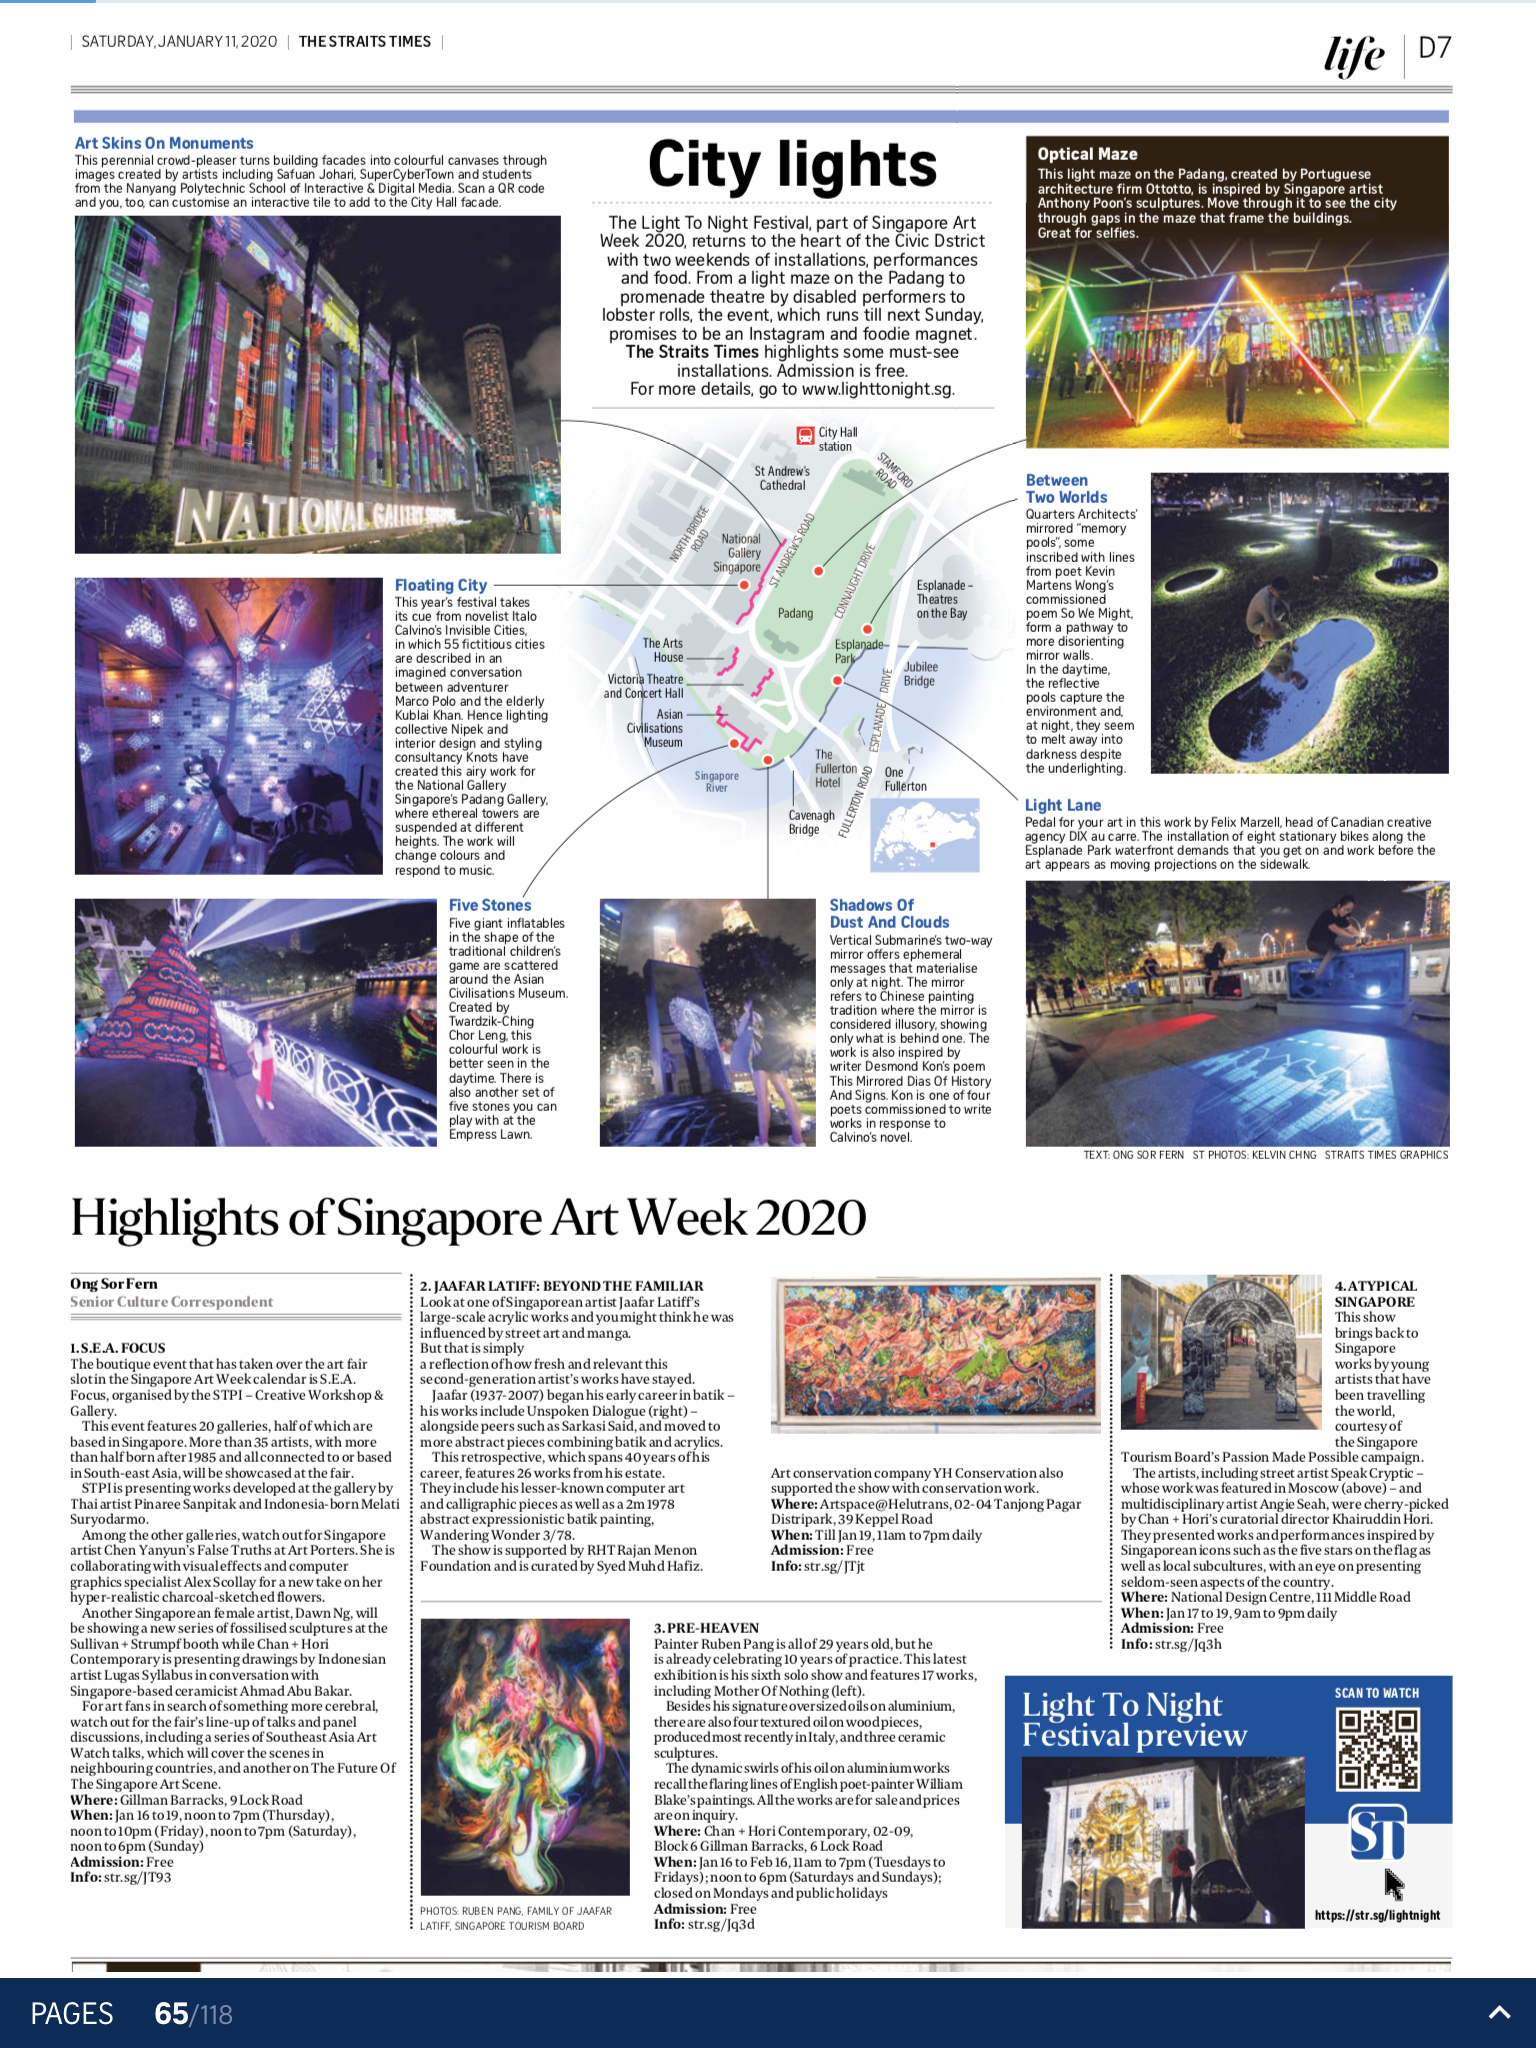Byline: (69, 1276, 276, 1309)
Headline: (71, 1197, 868, 1248), (650, 139, 937, 200)
Illustration: (419, 1906, 611, 1932), (1084, 1150, 1449, 1163)
Image: (589, 421, 984, 874), (74, 218, 561, 553), (1028, 135, 1447, 448), (1025, 880, 1450, 1147), (74, 576, 382, 874), (1150, 472, 1450, 776), (74, 898, 437, 1147), (423, 1619, 629, 1896), (600, 898, 816, 1148), (774, 1279, 1102, 1434), (1121, 1276, 1323, 1430)
Text: (68, 1338, 399, 1887), (1120, 1276, 1450, 1653), (653, 1621, 978, 1934), (418, 1279, 736, 1576), (599, 214, 986, 398), (394, 577, 549, 877), (829, 897, 994, 1143), (768, 1461, 1083, 1579), (76, 135, 545, 210), (1025, 472, 1137, 777), (1025, 797, 1439, 872), (449, 897, 570, 1145)
